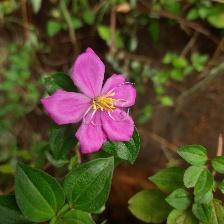malabar melastome: (39, 46, 140, 156)
